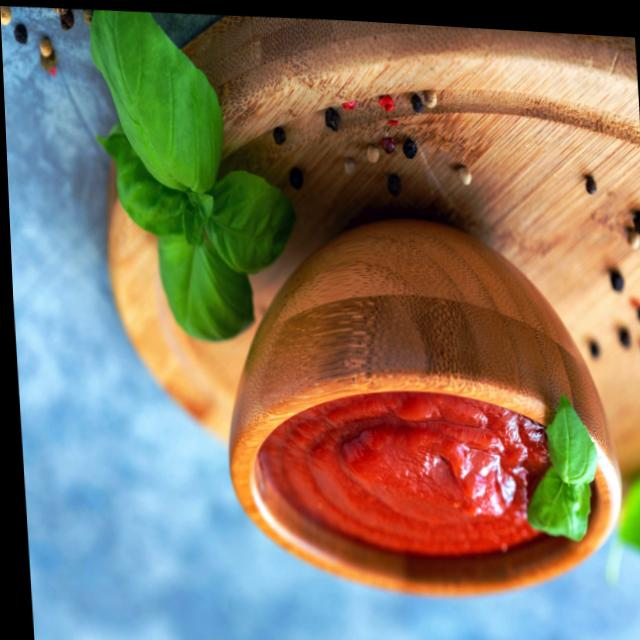ketchup: (245, 369, 600, 577)
